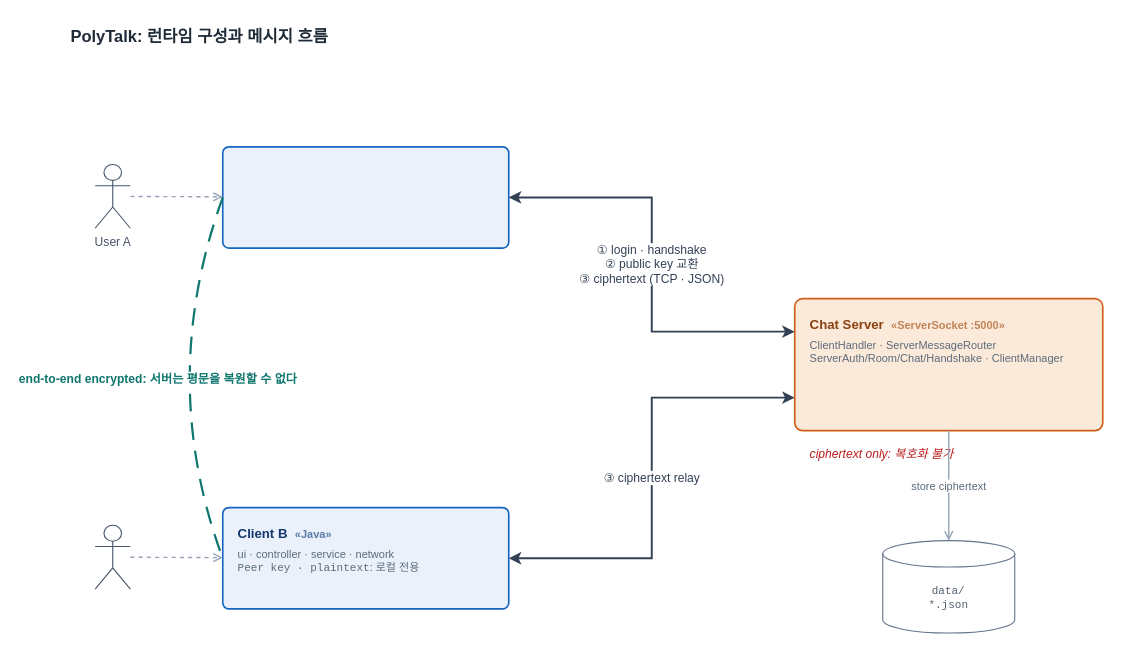
Some shapes in this 1123 by 652 pixel diagram are drawn without their labels. The shapes that lost their labels are listed below. From the top down, each one's box as (x1, y1, x2, y2) in pixels, then its label:
(221, 146, 509, 248): Client A «Java» ui · controller · service · network Peer key · plaintext : 로컬 전용
(94, 524, 130, 589): User B
